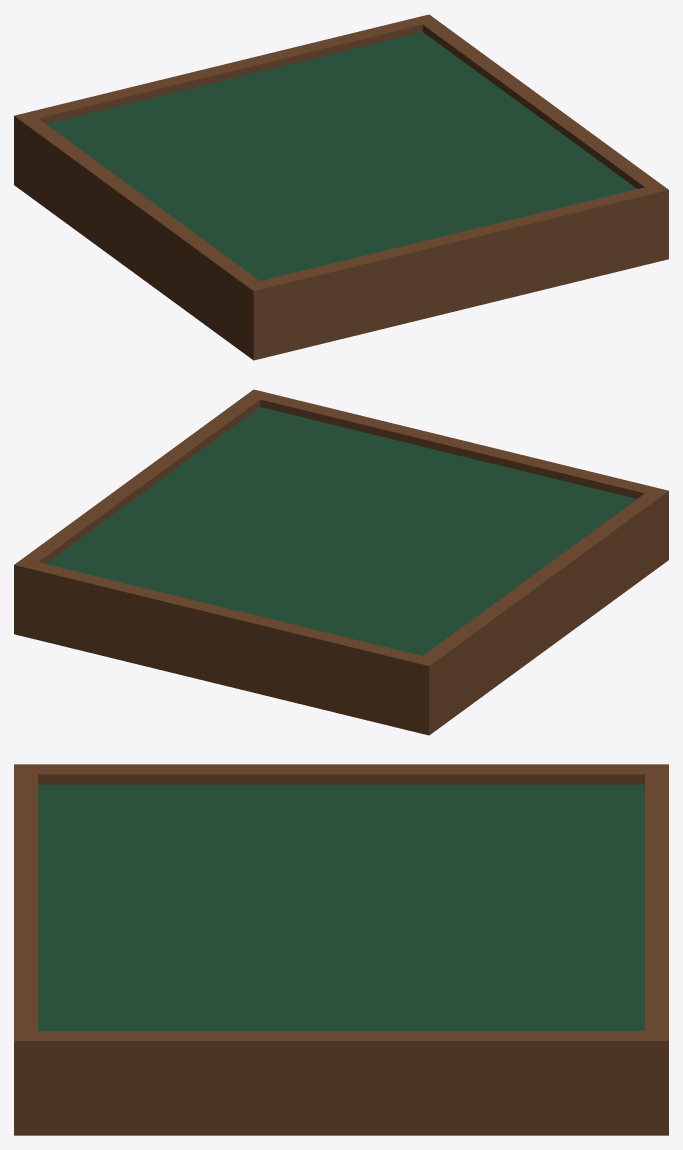
Rendered from table.glb.
The picture shows the model from 3 angles, top to bottom: view 1: azimuth 30°, elevation 25°; view 2: azimuth 150°, elevation 25°; view 3: azimuth 270°, elevation 25°; orthographic projection. The views are drawn at different scales.
Parts seen in each view (by area): view 1: felt, frame; view 2: felt, frame; view 3: felt, frame.
Boxes of the visible parts, left/top/right/bottom form: felt: left=46, top=32, right=636, bottom=280; frame: left=14, top=14, right=668, bottom=360; felt: left=46, top=407, right=636, bottom=655; frame: left=14, top=389, right=668, bottom=735; felt: left=38, top=784, right=644, bottom=1030; frame: left=14, top=764, right=668, bottom=1135.
Bounding box in the file's own units: 30 × 4.79 × 30.
